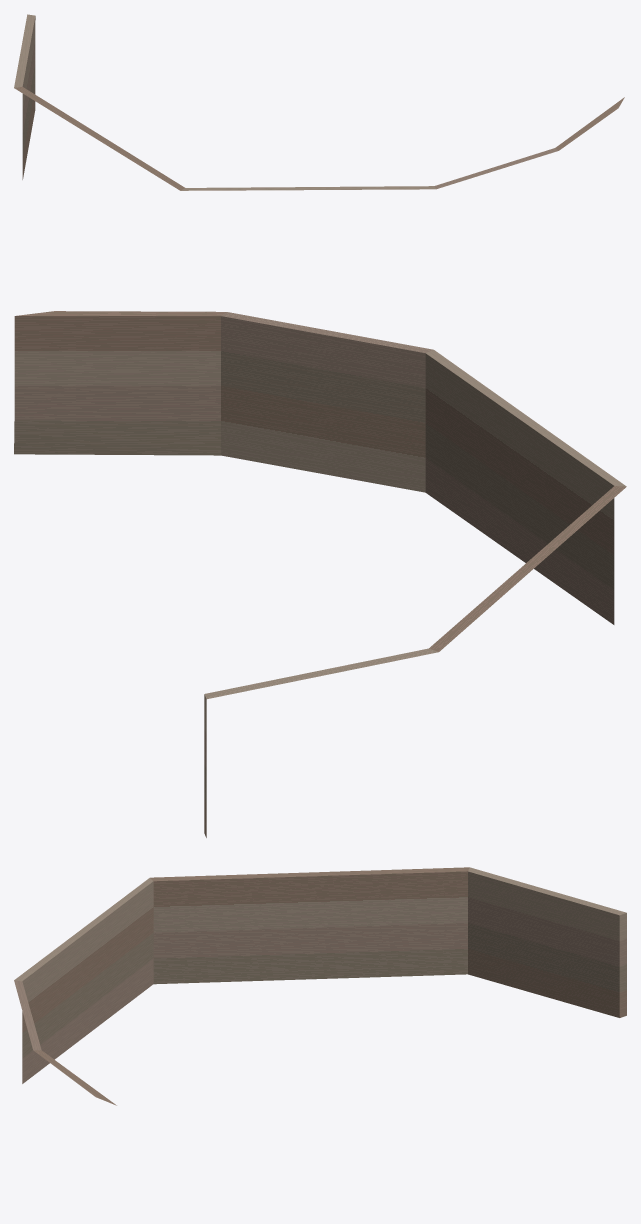
The model's file is kd_connection_town-ground_surface_3_45.glb.
3 views of the same model, one above another, from view 1: azimuth 30°, elevation 25°; view 2: azimuth 150°, elevation 25°; view 3: azimuth 270°, elevation 25° (orthographic). The views are drawn at different scales.
Visible parts, largest first — view 1: kd_connection_town-ground_surface_3_45; view 2: kd_connection_town-ground_surface_3_45; view 3: kd_connection_town-ground_surface_3_45.
Boxes of the visible parts, x1=… form: kd_connection_town-ground_surface_3_45: x1=14, y1=14, x2=624, y2=190; kd_connection_town-ground_surface_3_45: x1=14, y1=311, x2=626, y2=837; kd_connection_town-ground_surface_3_45: x1=14, y1=867, x2=626, y2=1105.
Size of the model in its own units: 2.24 by 0.4499 by 2.43.
1 material, 1 textured.
